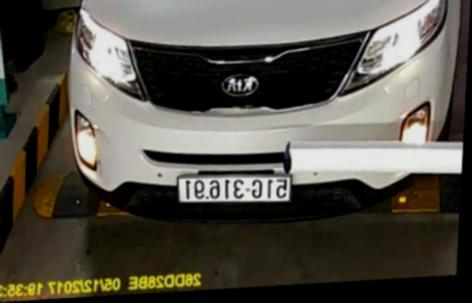License_Plate: (175, 168, 292, 207)
